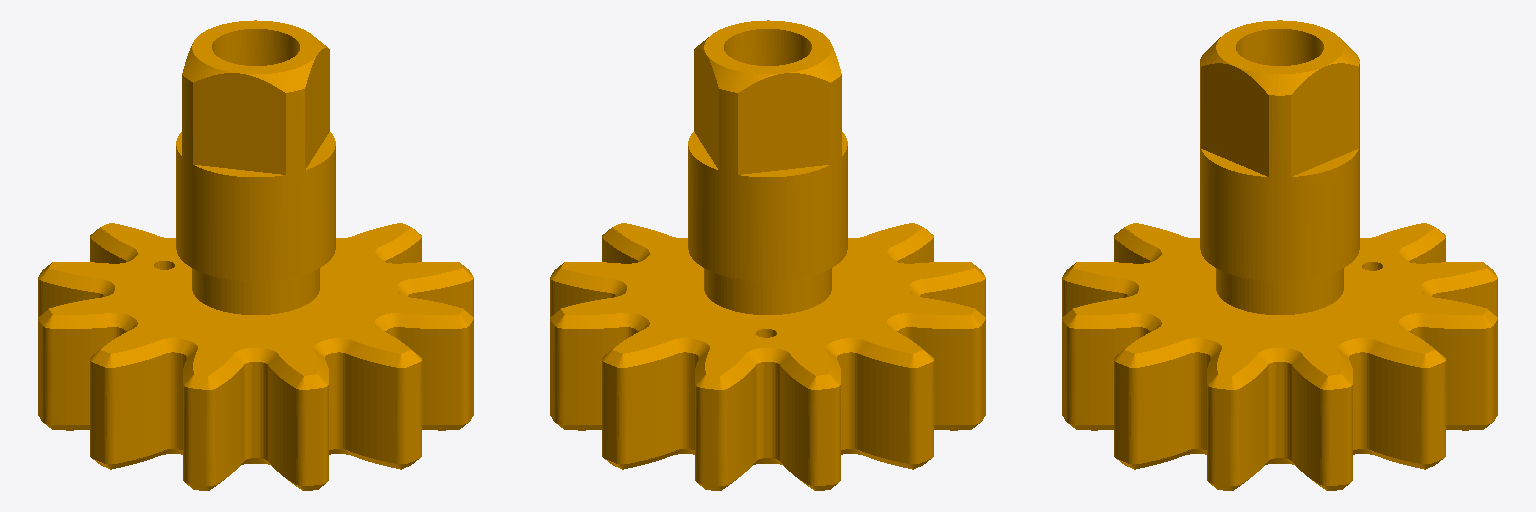
URDF robot description (gear_42):
<?xml version="1.0"?>
<robot name="gear_42">
  <link name="base_link">
    <!-- visual model -->
    <visual>
      <origin rpy="0 0 0.7853981633974483"/>
      <geometry>
        <mesh filename="package://mfja_3rd_floor_description/models/gears/meshes/gear_42.stl"
              scale="0.001 0.001 0.001"/>
      </geometry>
    </visual>
    <!-- collision model -->
    <collision>
      <origin xyz="0 0 0.006"/>
      <geometry>
        <cylinder radius="0.021" length="0.012"/>
      </geometry>
    </collision>
    <collision>
      <origin xyz="0 0 0.028"/>
      <geometry>
        <cylinder radius="0.0075" length="0.014"/>
      </geometry>
    </collision>
    <collision>
      <origin xyz="0 0 0.018"/>
      <geometry>
        <cylinder radius="0.005" length="0.016"/>
      </geometry>
    </collision>
  </link>
</robot>

--- Facts derived from the render (not from the file) ---
The picture shows the robot from 3 angles, left to right: view 1: azimuth 30°, elevation 25°; view 2: azimuth 150°, elevation 25°; view 3: azimuth 270°, elevation 25°; orthographic projection.
Model gear_42 with 1 links and 0 joints (none), rooted at base_link, posed all joints at 0.
Visible links, largest first — view 1: base_link; view 2: base_link; view 3: base_link.
Boxes of the visible links, x1,y1,x2,y2 form: base_link: [38, 20, 473, 490]; base_link: [550, 20, 985, 490]; base_link: [1062, 20, 1497, 490].
Size in the robot's own frame: 0.041 by 0.041 by 0.037 metres.
1 mesh visuals loaded from 1 distinct referenced files (1 binary STL).
